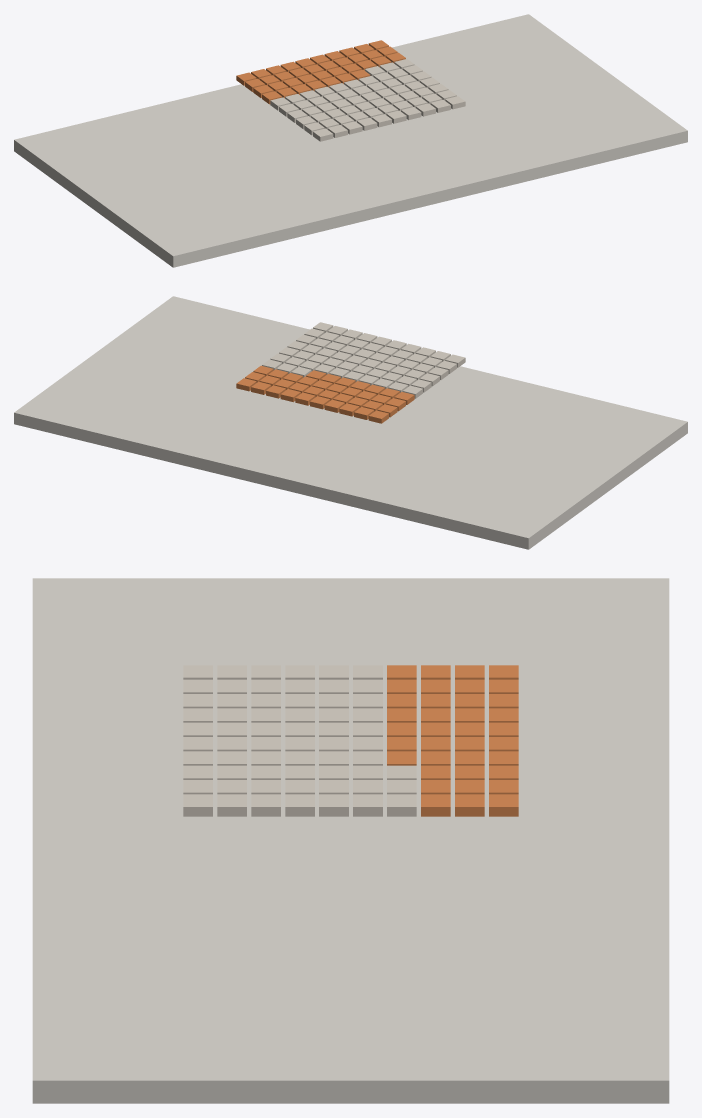
File: math-fractions-percent.glb
The picture shows the model from 3 angles, top to bottom: view 1: azimuth 30°, elevation 25°; view 2: azimuth 150°, elevation 25°; view 3: azimuth 270°, elevation 25°; orthographic projection. The views are drawn at different scales.
Visible parts, largest first — view 1: manipulative-base; view 2: manipulative-base; view 3: manipulative-base.
Boxes of the visible parts, <box> form: manipulative-base: <box>14,14,687,267</box>; manipulative-base: <box>14,296,687,549</box>; manipulative-base: <box>32,578,669,1103</box>.
Size of what is drawn, in the model's own units: 2.8 by 0.3025 by 1.5.
